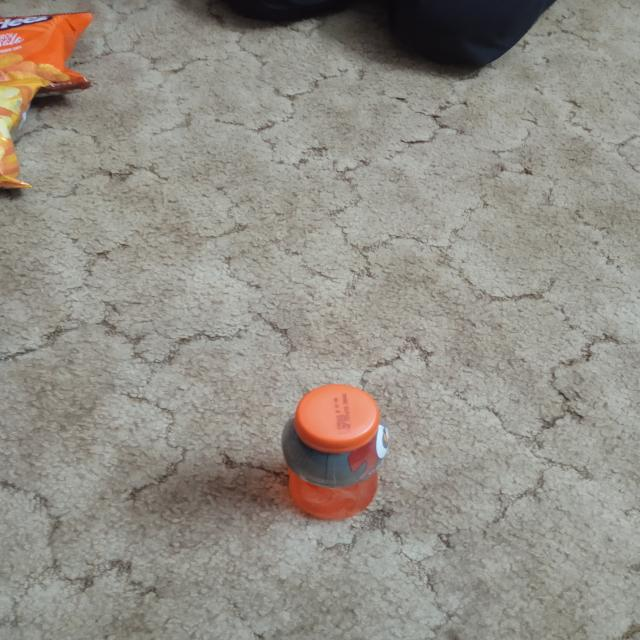Plastic: (273, 378, 394, 530)
